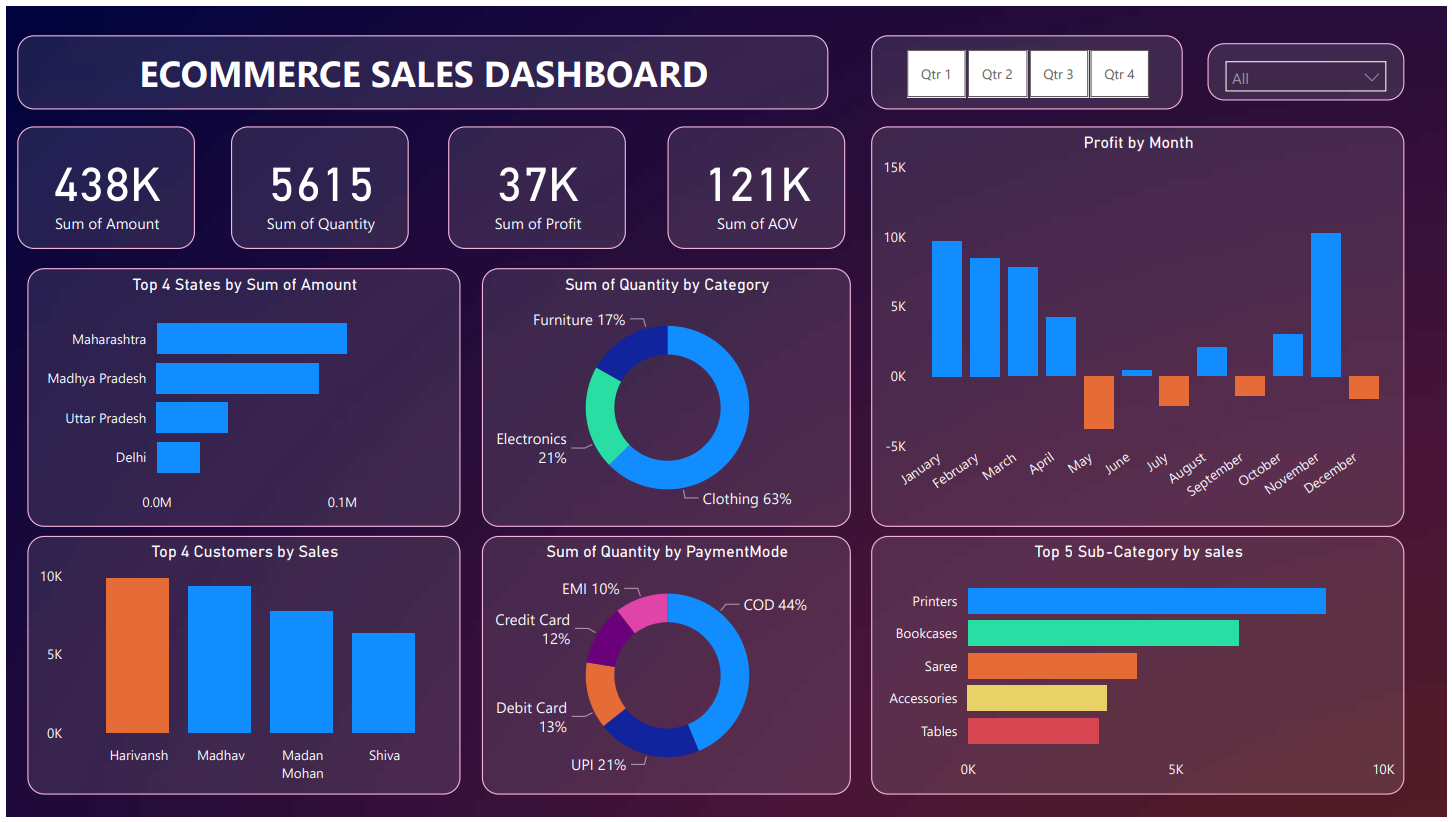

The dashboard page shown, as its layout file describes it:
{"tool":"powerbi","page":{"name":"Page 1","canvas":[1280,720],"ordinal":0},"visuals":[{"type":"textbox","box":[10,25.6,721.1,66.7],"z":0},{"type":"columnChart","title":"Profit by Month","fields":{"Category":["Orders.Order Date.Variation.Date Hierarchy.Month"],"Y":["Details.Profit"]},"box":[768.9,106.7,474.4,356.7],"z":1000},{"type":"barChart","title":"Top 5 Sub-Category by sales","fields":{"Category":["Details.Sub-Category"],"Y":["Details.Profit"]},"box":[768.9,471.1,474.4,230],"z":2000},{"type":"donutChart","fields":{"Category":["Details.Category"],"Y":["Details.Quantity"]},"box":[423.3,233.3,327.8,230],"z":3000},{"type":"donutChart","fields":{"Y":["Details.Quantity"],"Category":["Details.PaymentMode"]},"box":[423.3,471.1,327.8,230],"z":4000},{"type":"card","fields":{"Values":["Details.Amount"]},"box":[10,106.7,157.8,108.9],"z":5000},{"type":"card","fields":{"Values":["Details.Quantity"]},"box":[200,106.7,157.8,108.9],"z":6000},{"type":"card","fields":{"Values":["Details.Profit"]},"box":[393.3,106.7,157.8,108.9],"z":7000},{"type":"card","fields":{"Values":["Details.AOV"]},"box":[587.8,106.7,157.8,108.9],"z":8000},{"type":"barChart","title":"Top 4 States by Sum of Amount","fields":{"Category":["Orders.State"],"Y":["Details.Amount"]},"box":[18.9,233.3,385.6,230],"z":9000},{"type":"columnChart","title":"Top 4 Customers by Sales","fields":{"Category":["Orders.CustomerName"],"Y":["Details.Amount"]},"box":[18.9,471.1,385.6,230],"z":10000},{"type":"slicer","fields":{"Values":["Orders.Order Date.Variation.Date Hierarchy.Quarter"]},"box":[768.9,25.6,276.7,66.7],"z":11000},{"type":"slicer","fields":{"Values":["Orders.State"]},"box":[1067.8,33.3,175.6,51.1],"z":12000}]}

Visuals, with their boxes in screenshot pixels (x1, y1, x2, y2), scaled from the page's 1280x720 canvas onto the 1452x822 screenshot:
textbox: (x1=11, y1=29, x2=829, y2=105)
"Profit by Month" columnChart: (x1=872, y1=122, x2=1410, y2=529)
"Top 5 Sub-Category by sales" barChart: (x1=872, y1=538, x2=1410, y2=800)
donutChart - Details.Category x Details.Quantity: (x1=480, y1=266, x2=852, y2=529)
donutChart - Details.Quantity x Details.PaymentMode: (x1=480, y1=538, x2=852, y2=800)
card - Details.Amount: (x1=11, y1=122, x2=190, y2=246)
card - Details.Quantity: (x1=227, y1=122, x2=406, y2=246)
card - Details.Profit: (x1=446, y1=122, x2=625, y2=246)
card - Details.AOV: (x1=667, y1=122, x2=846, y2=246)
"Top 4 States by Sum of Amount" barChart: (x1=21, y1=266, x2=459, y2=529)
"Top 4 Customers by Sales" columnChart: (x1=21, y1=538, x2=459, y2=800)
slicer - Orders.Order Date.Variation.Date Hierarchy.Quarter: (x1=872, y1=29, x2=1186, y2=105)
slicer - Orders.State: (x1=1211, y1=38, x2=1410, y2=96)
